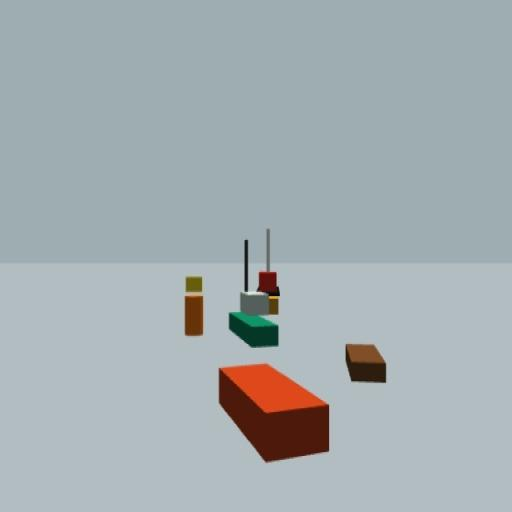buoy: (184, 276, 204, 337)
debris_container: (219, 360, 331, 463), (344, 341, 388, 386)
fishing_boat: (228, 239, 278, 349)
vessel: (255, 228, 279, 318)
